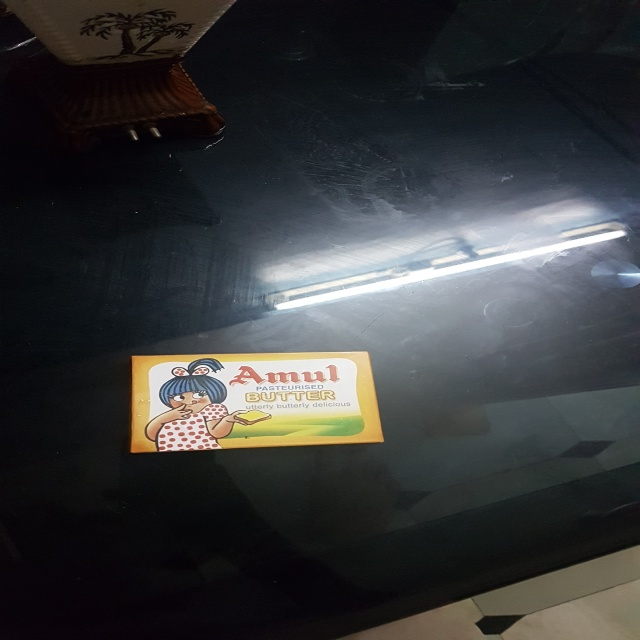butter: (130, 350, 386, 450)
